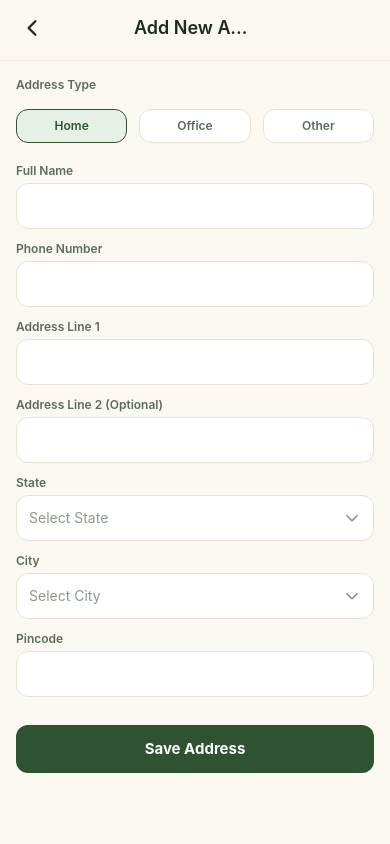
Test: AddEditAddressScreen › State picker › shows a placeholder until a state is picked, then displays the chosen state
The image size is (390, 844).
Expected: the text "Select State" is shown, 29,508 -> 108,528
Click the button labelled "Select State": (69, 518) 16,495 -> 374,541
(page scrolled)
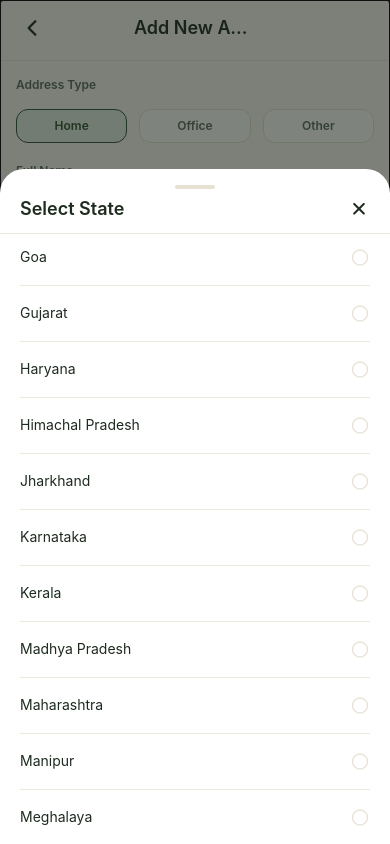
Click the text "Karnataka": (54, 537) 20,527 -> 87,547
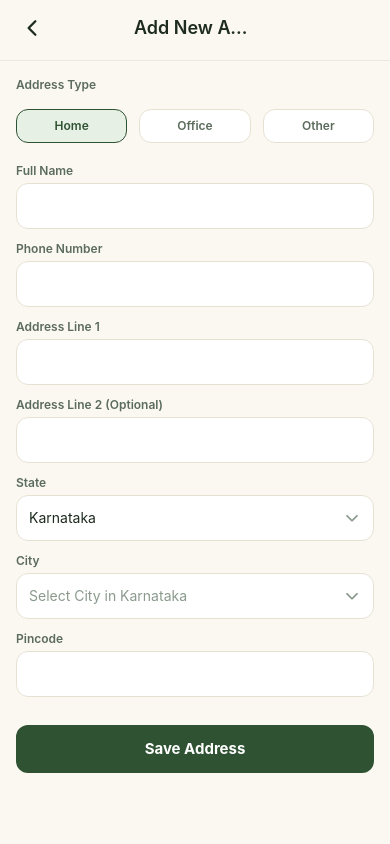
Expected: the text "Karnataka" is shown, 29,508 -> 96,528
Expected: the button "Select State" is gone
